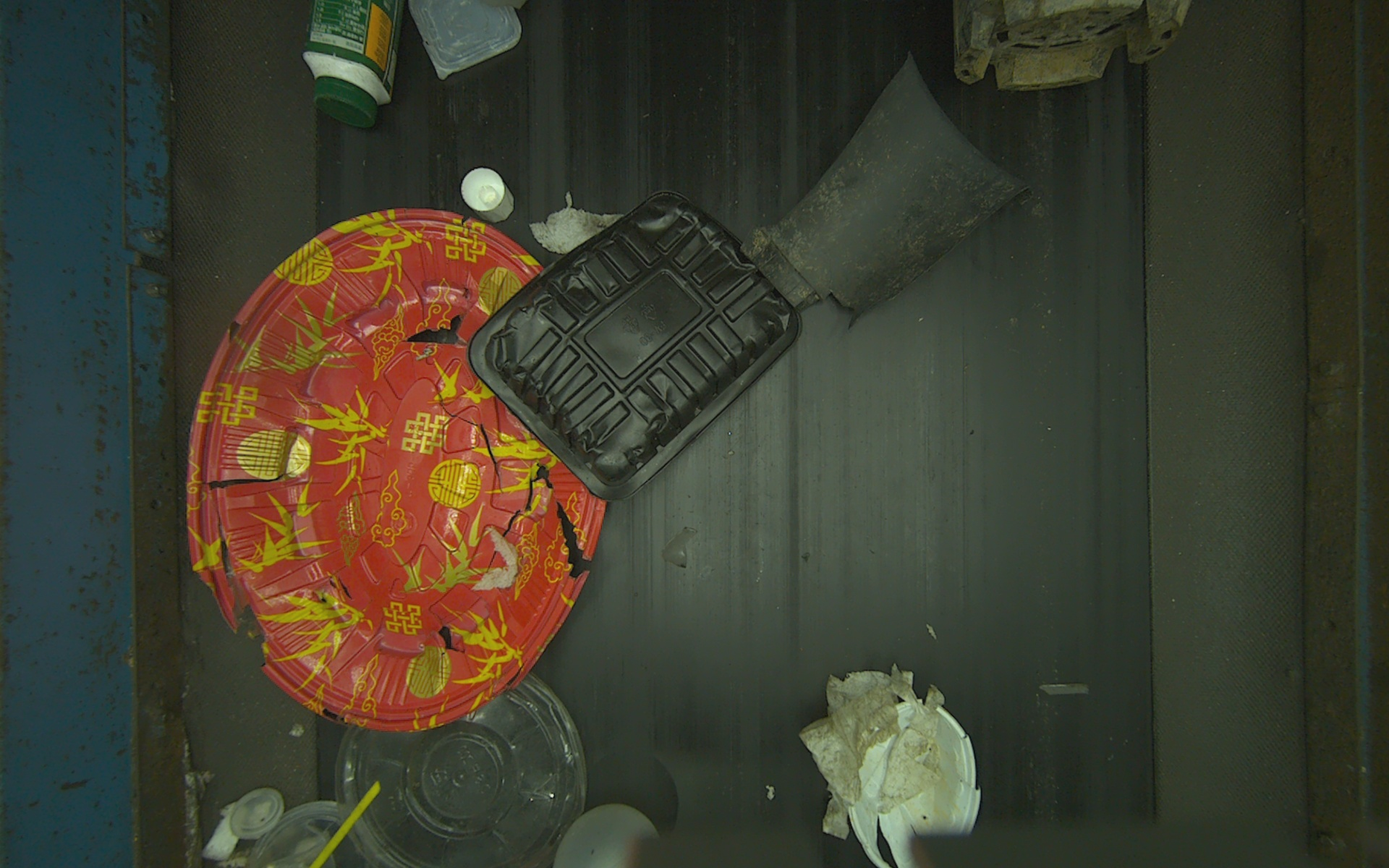PET-C: (335, 670, 587, 868)
PP-B: (467, 191, 802, 500)
